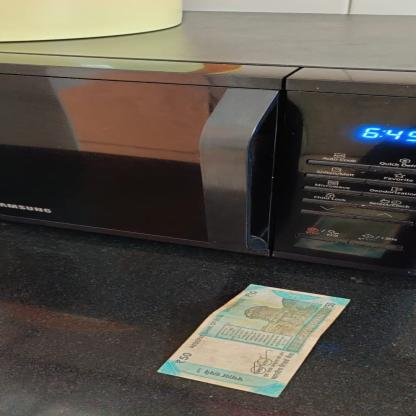New50Back: (152, 281, 354, 398)
